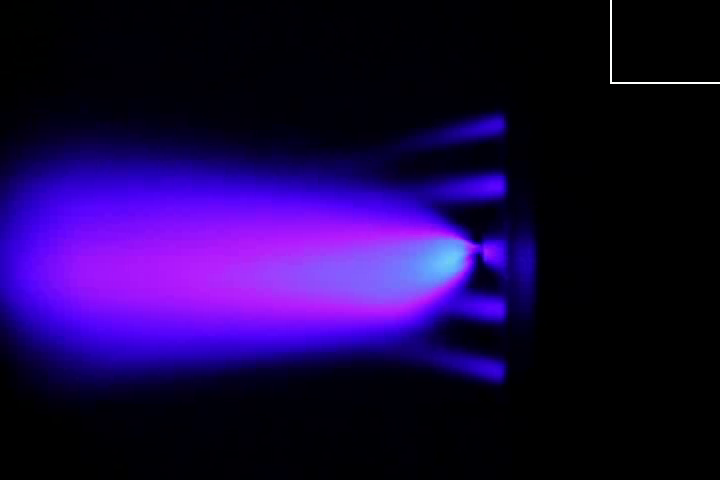burner cap: (483, 234, 508, 271)
pilot flame: (408, 166, 510, 206), (404, 345, 506, 384), (389, 113, 505, 143), (430, 290, 508, 324)
stable: (222, 216, 476, 312)
